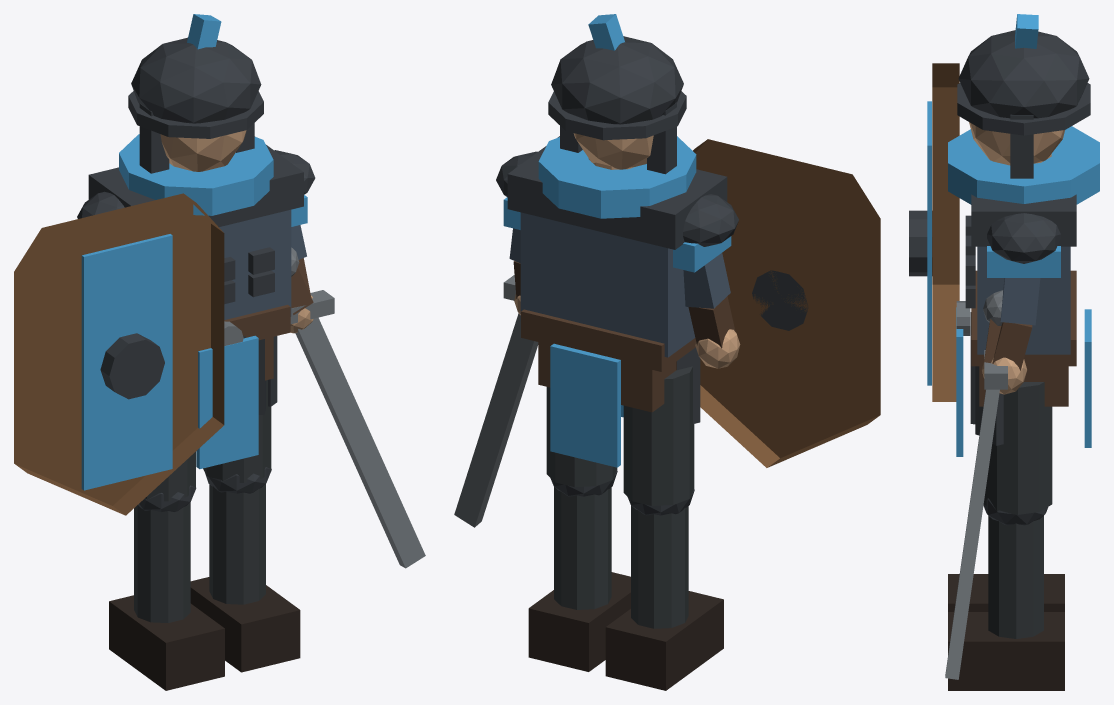
File: CHR_Infantry_A_v001_LOD1_Blue.glb
The picture shows the model from 3 angles, left to right: view 1: azimuth 30°, elevation 25°; view 2: azimuth 150°, elevation 25°; view 3: azimuth 270°, elevation 25°; orthographic projection. The views are drawn at different scales.
Visible parts, largest first — view 1: Shield_Base, Team_ShieldPanel, HelmetDome, Boot_L, Sword_Blade, Team_Scarf, Shin_R, Shin_L, Team_Tabard_F, Boot_R, Torso, ChestPlate (+13 smaller); view 2: Shield_Base, Torso, HelmetDome, Thigh_L, Team_Tabard_B, Team_Scarf, Boot_L, ChestPlate, Shin_L, Shin_R, Sword_Blade, Boot_R (+14 smaller); view 3: HelmetDome, Shield_Base, Team_Scarf, Thigh_R, Boot_R, Shin_R, Torso, Sword_Blade, ChestPlate, ShoulderPad_R, HelmetBrim, Belt (+22 smaller).
Boxes of the visible parts, x1,y1,x2,y2 form: Shield_Base: [14, 193, 224, 515]; Team_ShieldPanel: [81, 234, 172, 490]; HelmetDome: [131, 37, 261, 123]; Boot_L: [109, 595, 224, 690]; Sword_Blade: [295, 317, 425, 568]; Team_Scarf: [119, 134, 273, 215]; Shin_R: [209, 484, 265, 604]; Shin_L: [134, 502, 190, 622]; Team_Tabard_F: [196, 335, 258, 469]; Boot_R: [190, 577, 300, 672]; Torso: [219, 209, 291, 319]; ChestPlate: [88, 145, 303, 226]; Shield_Base: [693, 139, 880, 467]; Torso: [520, 212, 695, 357]; HelmetDome: [551, 36, 683, 124]; Thigh_L: [623, 366, 694, 505]; Team_Tabard_B: [550, 343, 620, 467]; Team_Scarf: [538, 136, 696, 218]; Boot_L: [605, 591, 723, 690]; ChestPlate: [507, 136, 727, 249]; Shin_L: [631, 505, 688, 628]; Shin_R: [554, 487, 611, 609]; Sword_Blade: [454, 313, 538, 527]; Boot_R: [528, 572, 630, 671]; HelmetDome: [958, 30, 1089, 118]; Shield_Base: [932, 63, 959, 401]; Team_Scarf: [948, 126, 1099, 204]; Thigh_R: [984, 382, 1052, 514]; Boot_R: [948, 612, 1064, 690]; Shin_R: [988, 516, 1043, 638]; Torso: [977, 246, 1070, 354]; Sword_Blade: [945, 363, 999, 679]; ChestPlate: [971, 194, 1076, 246]; ShoulderPad_R: [987, 213, 1060, 263]; HelmetBrim: [957, 83, 1090, 135]; Belt: [971, 270, 1076, 366].
Bounding box in the file's own units: 1.23 × 1.83 × 0.49.
Materials: 2 (2 with a texture image).
